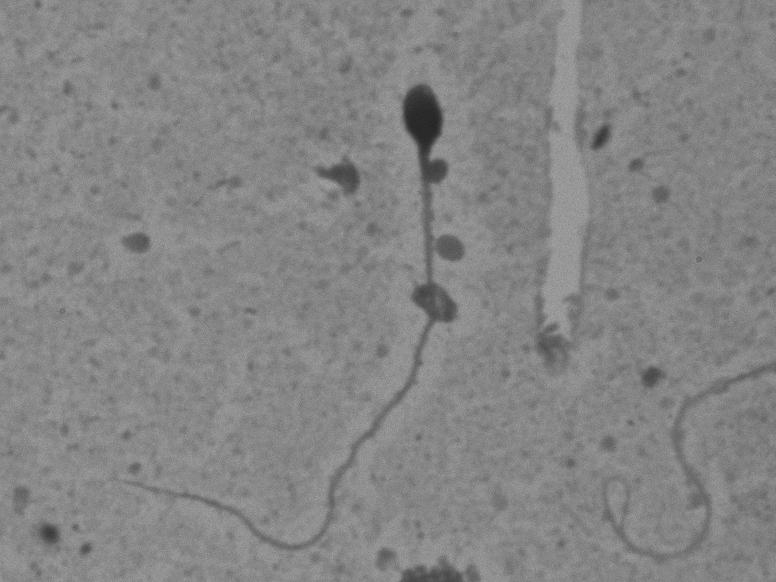Abnormal: (118, 74, 489, 552)
